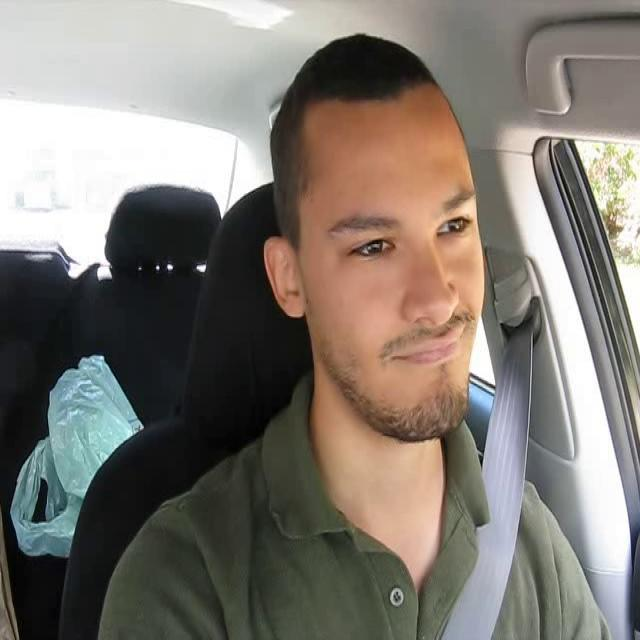close: (388, 326, 473, 368)
